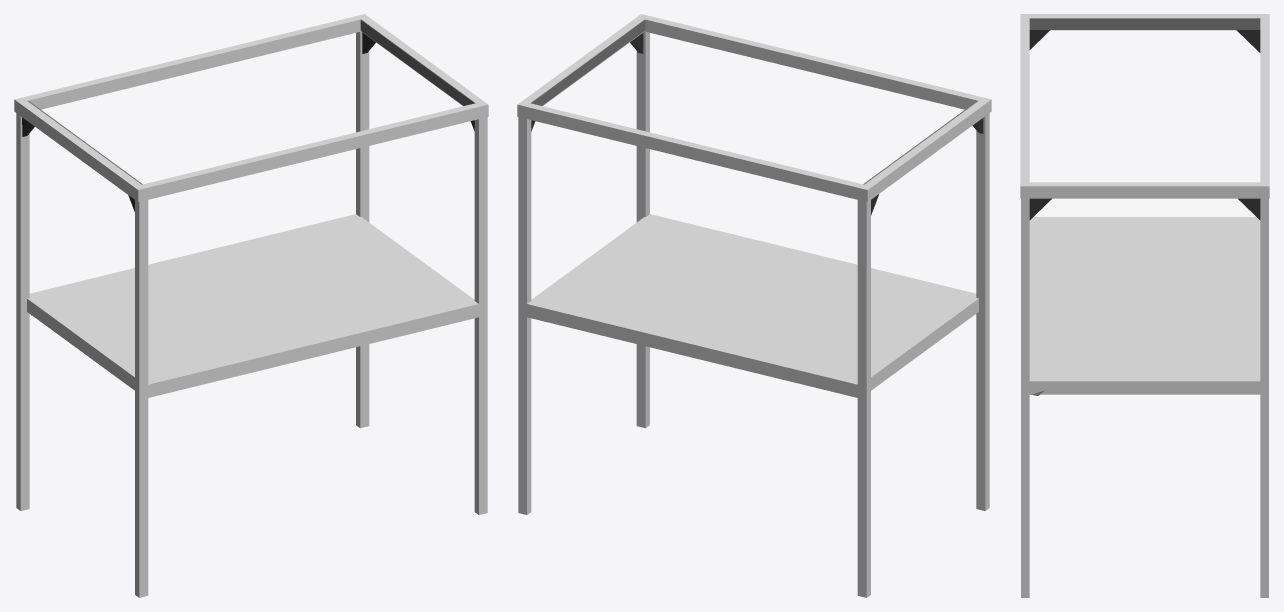
File: model_shelf_unit_02.fbx
3 views of the same model, side by side, from view 1: azimuth 30°, elevation 25°; view 2: azimuth 150°, elevation 25°; view 3: azimuth 270°, elevation 25° (orthographic).
Visible parts, largest first — view 1: model_shelf_unit_02_col, model_shelf_unit_02; view 2: model_shelf_unit_02_col, model_shelf_unit_02; view 3: model_shelf_unit_02_col, model_shelf_unit_02.
Part boxes in pixels (box(x1,y1,x2,y2)): model_shelf_unit_02_col: box(14, 14, 488, 597); model_shelf_unit_02: box(22, 19, 474, 315); model_shelf_unit_02_col: box(517, 14, 991, 597); model_shelf_unit_02: box(531, 19, 983, 215); model_shelf_unit_02_col: box(1020, 14, 1269, 597); model_shelf_unit_02: box(1029, 18, 1260, 395).
Bounding box in the file's own units: 256 × 285 × 157.
2 materials, 1 textured.
